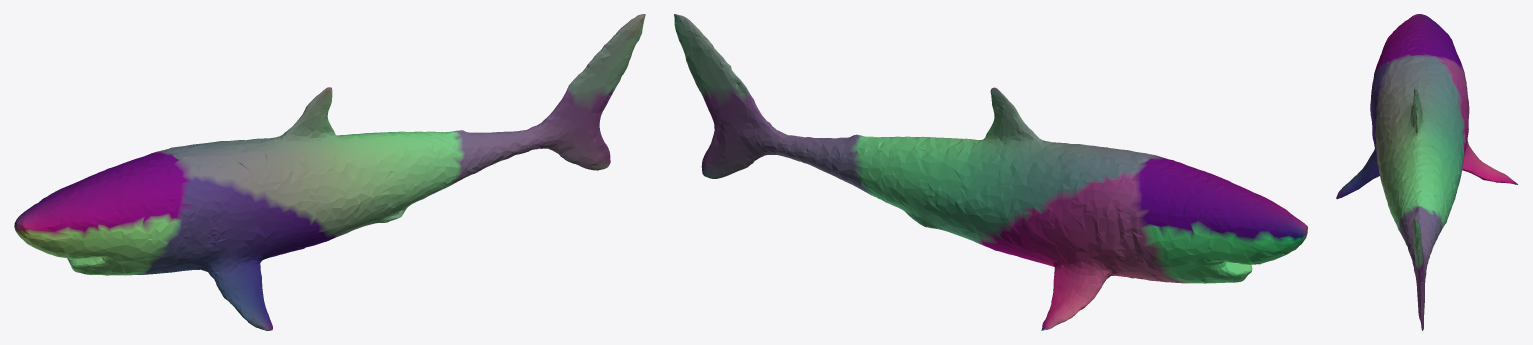
Rendered from shark-10.off.obj.
3 views of the same model, side by side, from view 1: azimuth 30°, elevation 25°; view 2: azimuth 150°, elevation 25°; view 3: azimuth 270°, elevation 25° (orthographic). The views are drawn at different scales.
Bounding box in the file's own units: 1.46 × 0.409 × 0.4431.
